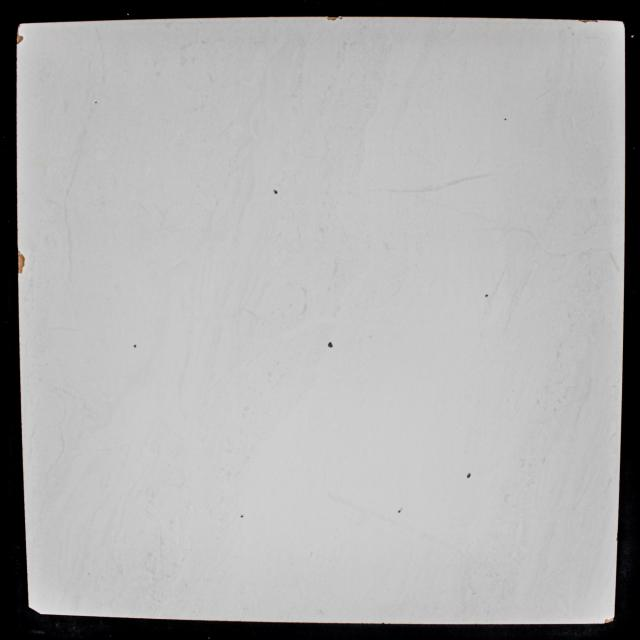edge-chipping: (15, 23, 24, 45), (18, 250, 25, 274), (326, 14, 342, 22), (577, 20, 599, 24), (29, 607, 41, 614), (604, 617, 614, 623)
hole: (272, 188, 279, 196), (328, 342, 333, 348), (132, 343, 137, 349), (467, 473, 471, 479), (485, 294, 489, 298), (398, 510, 401, 514), (94, 101, 98, 104), (504, 118, 507, 121), (240, 516, 243, 518)
